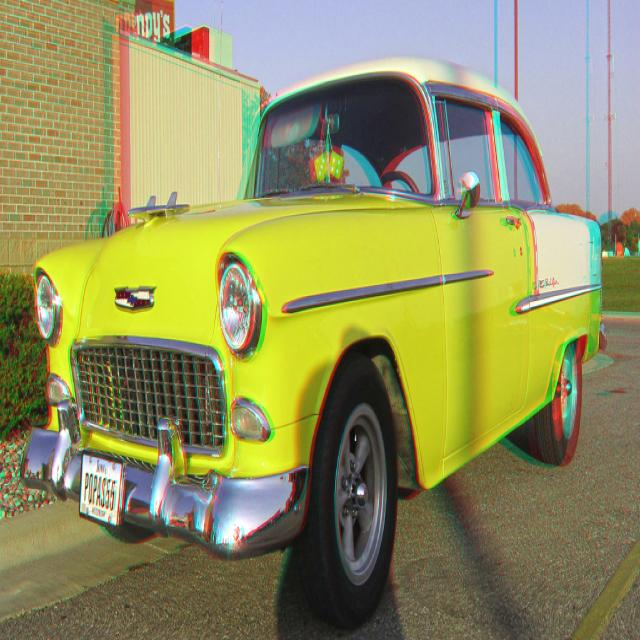car: (19, 54, 606, 631)
